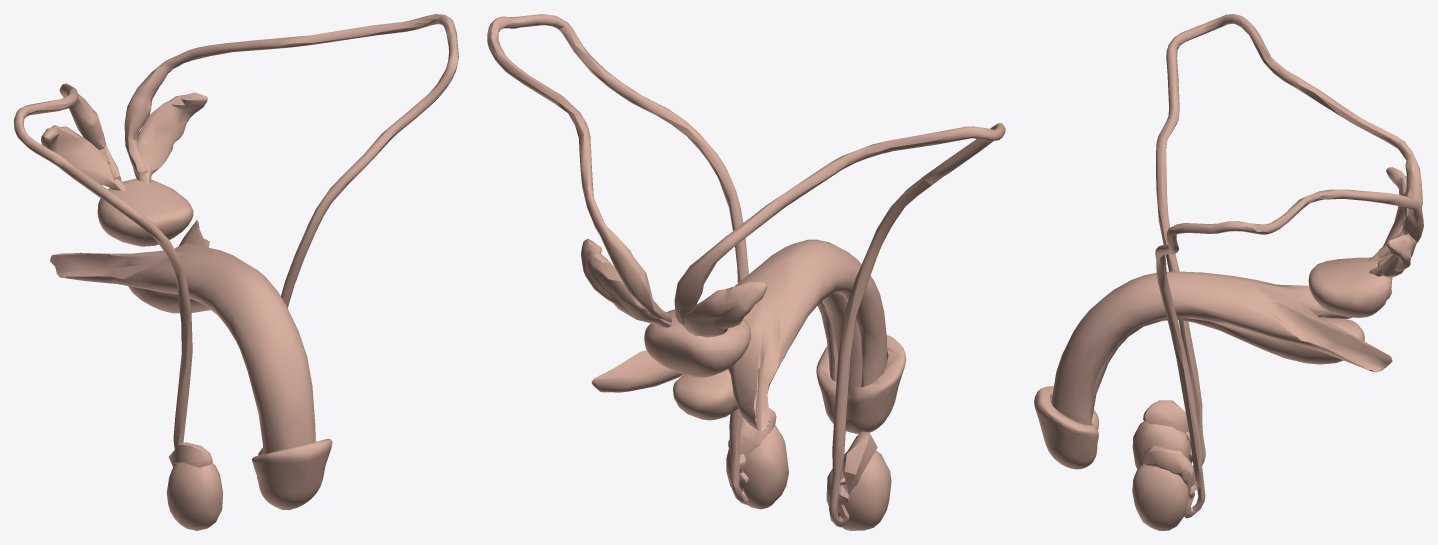
File: reproductive.glb
3 renders of one model, left to right at view 1: azimuth 30°, elevation 25°; view 2: azimuth 150°, elevation 25°; view 3: azimuth 270°, elevation 25°, orthographic. The views are drawn at different scales.
Parts seen in each view (by area): view 1: FMA19618, FMA19236, FMA19235, FMA9600, FMA18247, FMA7211, FMA19388, FMA19387, FMA19617, FMA18256; view 2: FMA19618, FMA19235, FMA19236, FMA9600, FMA19617, FMA18247, FMA7212, FMA19387, FMA7211, FMA19388, FMA18256, FMA18257; view 3: FMA19618, FMA19235, FMA19236, FMA9600, FMA18247, FMA7212, FMA19617, FMA7211, FMA18257, FMA19388, FMA18256, FMA19387.
Boxes of the visible parts, bbox=[...] form: FMA19618: bbox=[50, 220, 315, 454]; FMA19236: bbox=[124, 14, 458, 307]; FMA19235: bbox=[14, 83, 192, 449]; FMA9600: bbox=[97, 178, 193, 246]; FMA18247: bbox=[252, 438, 332, 509]; FMA7211: bbox=[166, 462, 222, 530]; FMA19388: bbox=[133, 92, 207, 183]; FMA19387: bbox=[41, 125, 125, 190]; FMA19617: bbox=[128, 286, 210, 313]; FMA18256: bbox=[168, 442, 212, 467]; FMA19618: bbox=[591, 239, 886, 431]; FMA19235: bbox=[674, 123, 1005, 527]; FMA19236: bbox=[487, 14, 748, 504]; FMA9600: bbox=[644, 309, 750, 377]; FMA19617: bbox=[673, 293, 862, 420]; FMA18247: bbox=[816, 335, 906, 434]; FMA7212: bbox=[726, 425, 788, 509]; FMA19387: bbox=[684, 281, 766, 337]; FMA7211: bbox=[826, 450, 891, 530]; FMA19388: bbox=[581, 238, 674, 327]; FMA18256: bbox=[842, 431, 877, 493]; FMA18257: bbox=[728, 408, 776, 457]; FMA19618: bbox=[1051, 271, 1392, 425]; FMA19235: bbox=[1156, 14, 1422, 466]; FMA19236: bbox=[1155, 189, 1423, 518]; FMA9600: bbox=[1308, 257, 1392, 317]; FMA18247: bbox=[1034, 386, 1098, 469]; FMA7212: bbox=[1132, 463, 1188, 530]; FMA19617: bbox=[1091, 317, 1364, 423]; FMA7211: bbox=[1132, 421, 1190, 469]; FMA18257: bbox=[1142, 445, 1195, 499]; FMA19388: bbox=[1369, 233, 1416, 277]; FMA18256: bbox=[1143, 400, 1188, 433]; FMA19387: bbox=[1368, 167, 1406, 261].
Bounding box in the file's own units: 0.3814 × 0.3497 × 0.3029.
